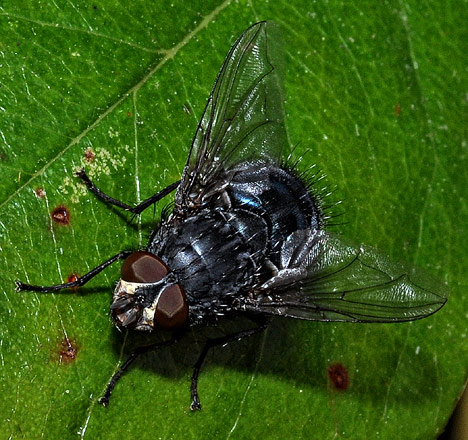green bottles flies: (16, 15, 437, 377)
